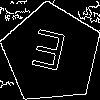E: (26, 28, 69, 81)
